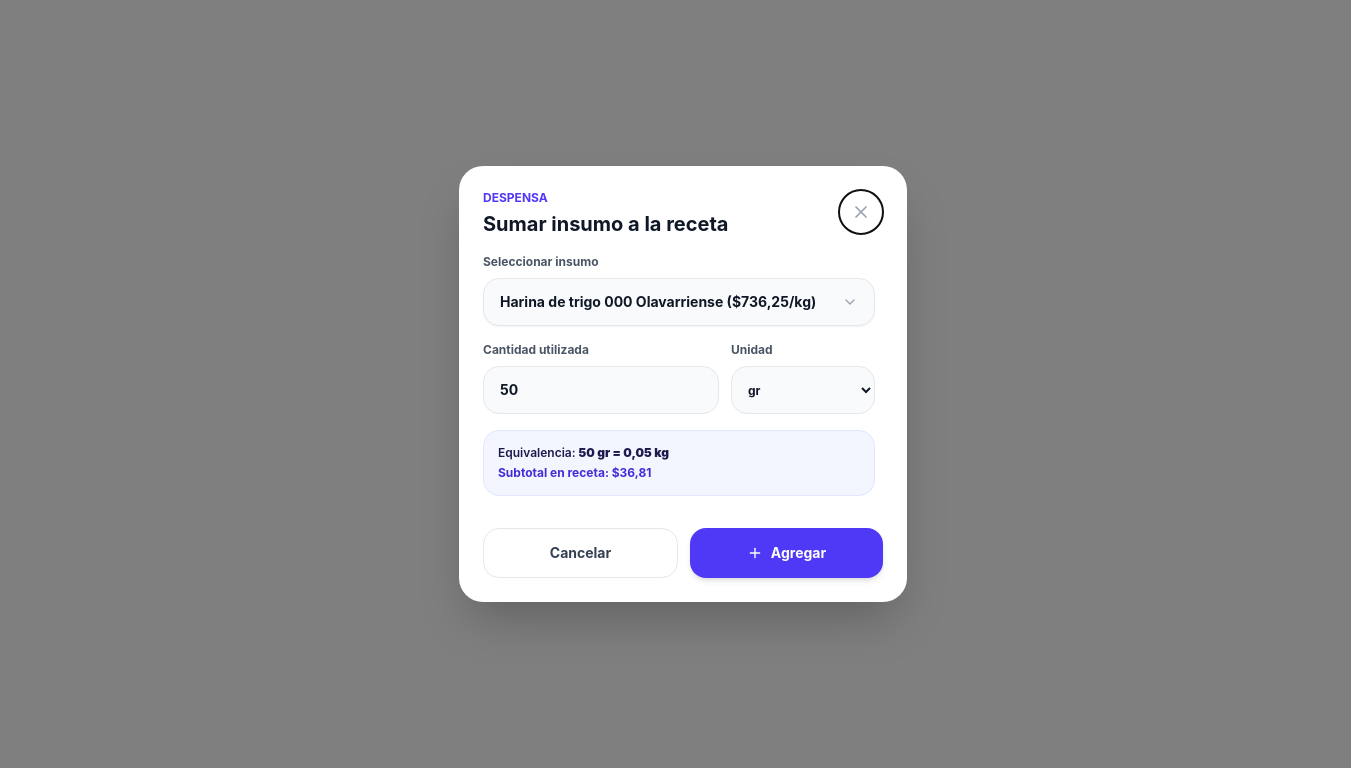
ProductAddIngredientModal - búsqueda en la API (#350) › sin coincidencias avisa que no hay insumos
This screenshot has width=1366, height=768.
Click the dropdown named "Seleccionar insumo" at x=679, y=302, box [483, 278, 875, 326]
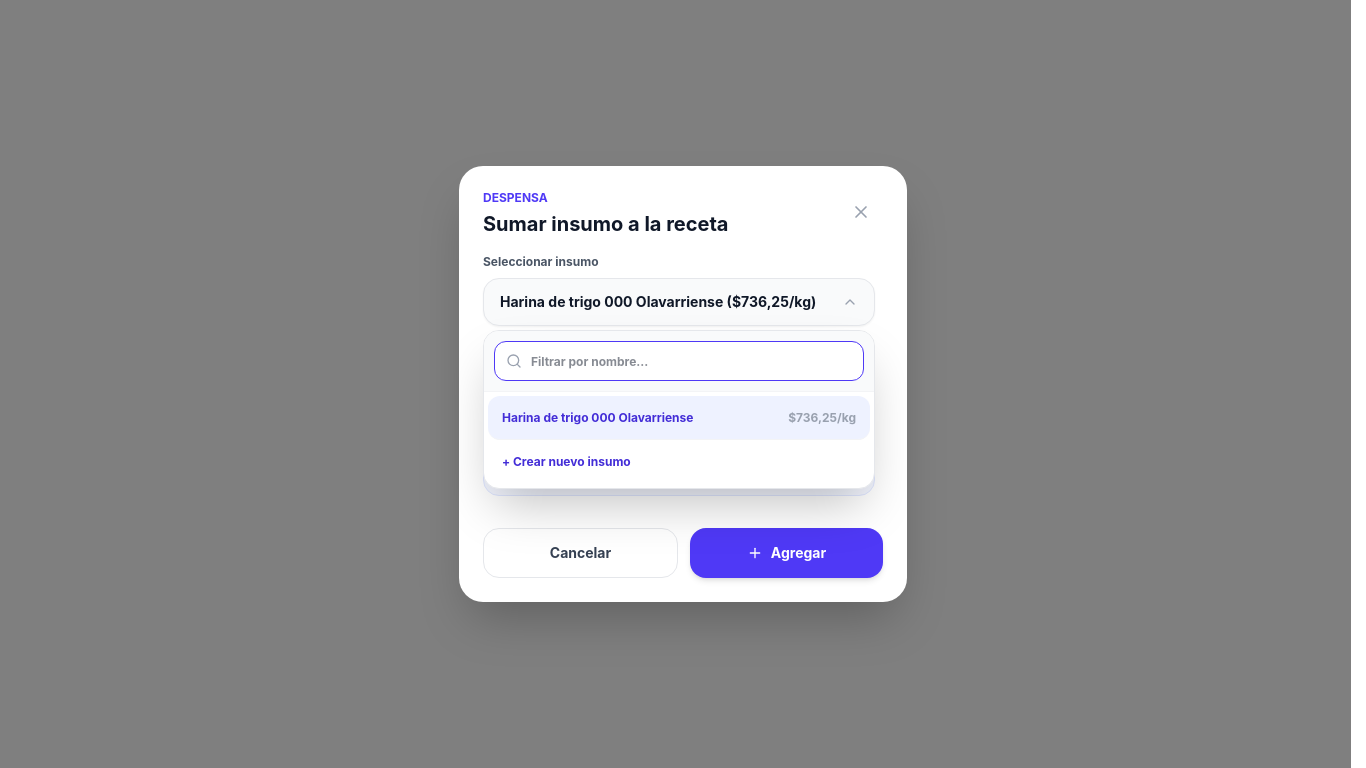
Type "azafran" into the dropdown with placeholder "Filtrar por nombre..." at x=679, y=361, box [494, 341, 864, 381]
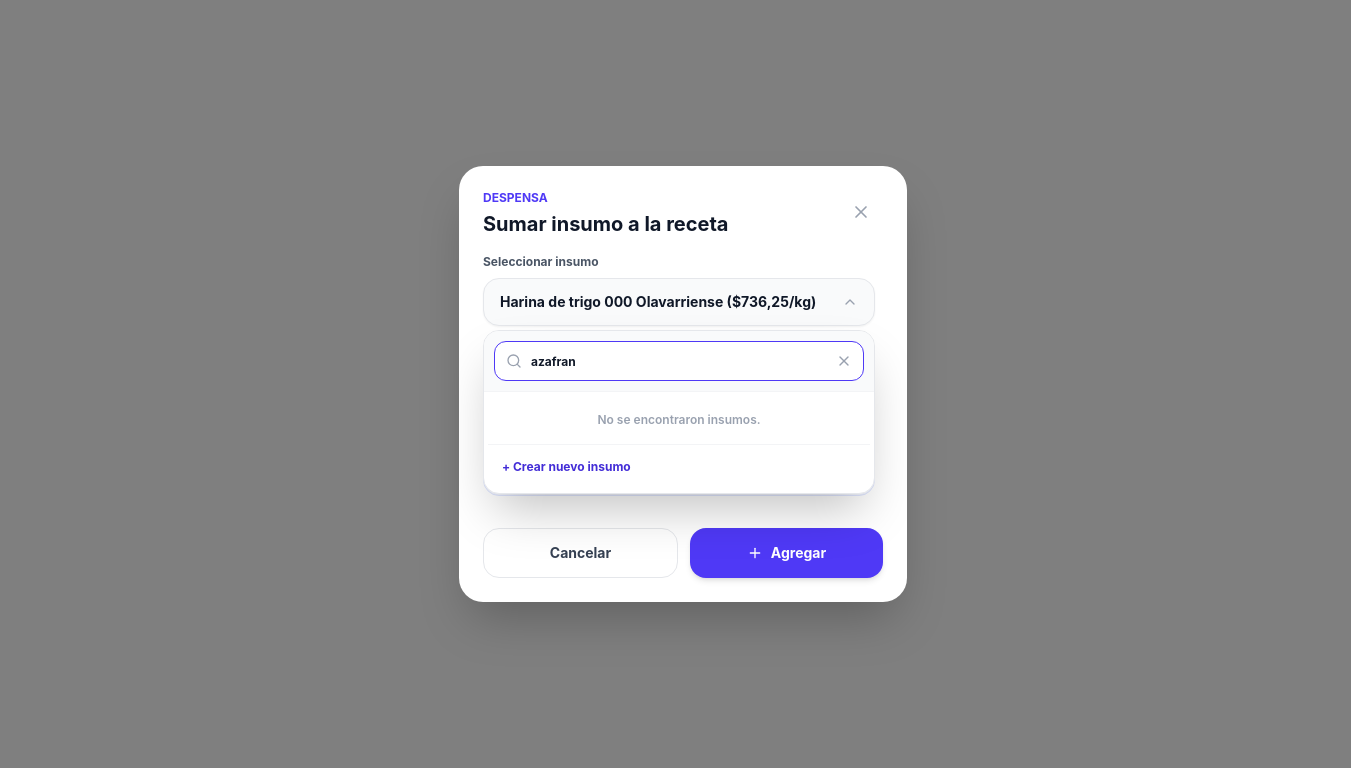
Expected: the text "No se encontraron insumos." is shown, [488, 396, 870, 445]
